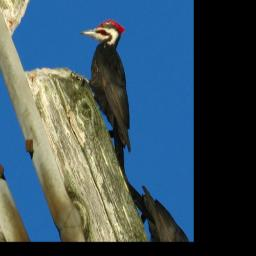Woodpecker: (63, 2, 170, 183)
